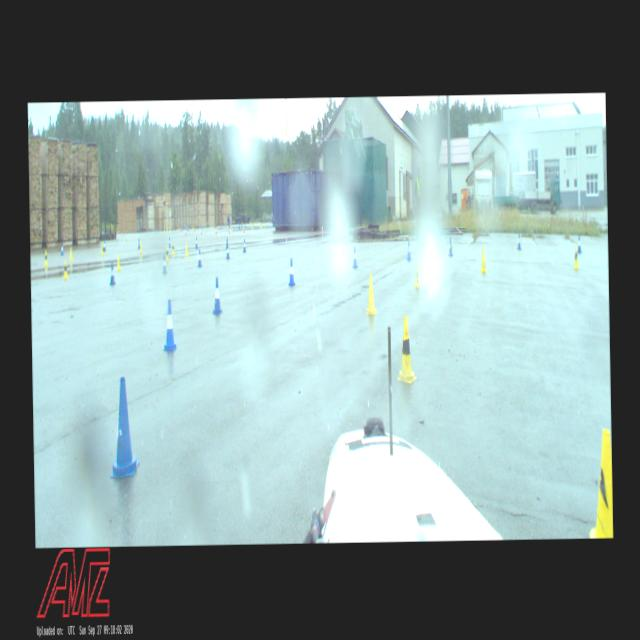blue_cone: (109, 376, 139, 476), (162, 298, 177, 351), (212, 276, 222, 314), (288, 258, 294, 285), (406, 240, 412, 261), (352, 247, 357, 268), (110, 262, 114, 285), (516, 232, 521, 250), (162, 252, 166, 272), (198, 248, 202, 266), (577, 235, 581, 253), (448, 238, 452, 255), (226, 244, 230, 258), (195, 236, 198, 248), (242, 240, 245, 252), (60, 244, 63, 255), (137, 237, 140, 248), (103, 240, 105, 252), (225, 236, 227, 248)
orange_cone: (242, 225, 245, 232)
yellow_cone: (588, 428, 612, 537), (396, 316, 416, 382), (365, 273, 376, 314), (413, 260, 420, 288), (573, 245, 579, 269), (480, 249, 486, 272), (63, 260, 67, 278), (166, 244, 170, 262), (44, 250, 48, 266), (116, 253, 120, 269), (69, 246, 73, 262), (185, 243, 188, 257), (100, 242, 103, 255), (172, 242, 174, 255), (140, 241, 142, 253), (252, 222, 253, 229), (260, 220, 260, 227)
